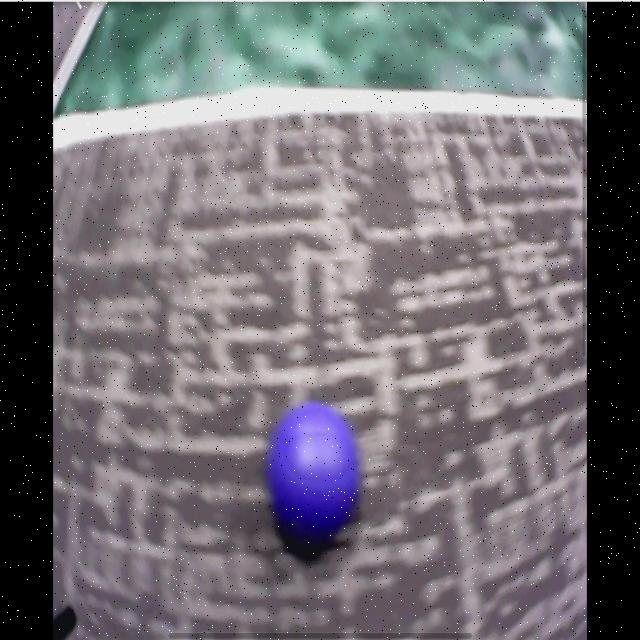ball: (271, 409, 357, 539)
